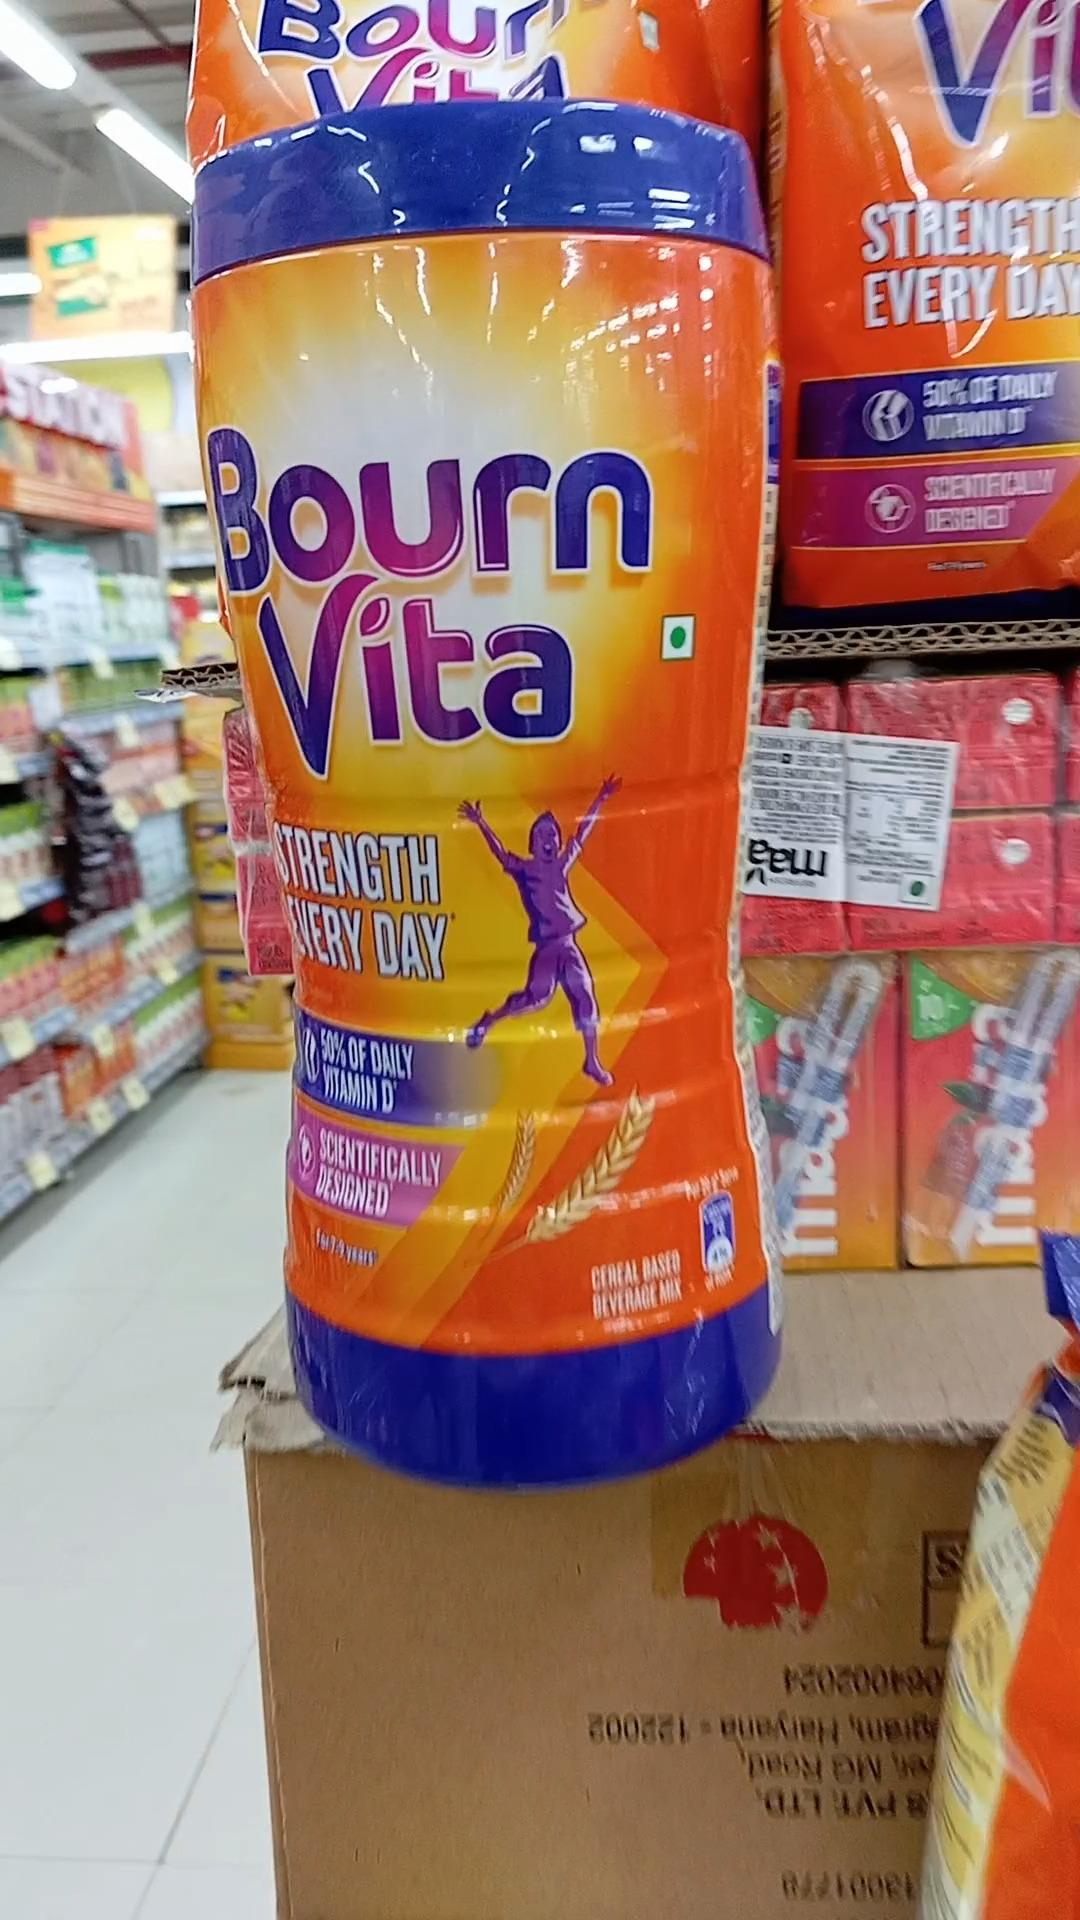BOURN_VITA_1_KG_JAR: (200, 70, 804, 1480)
